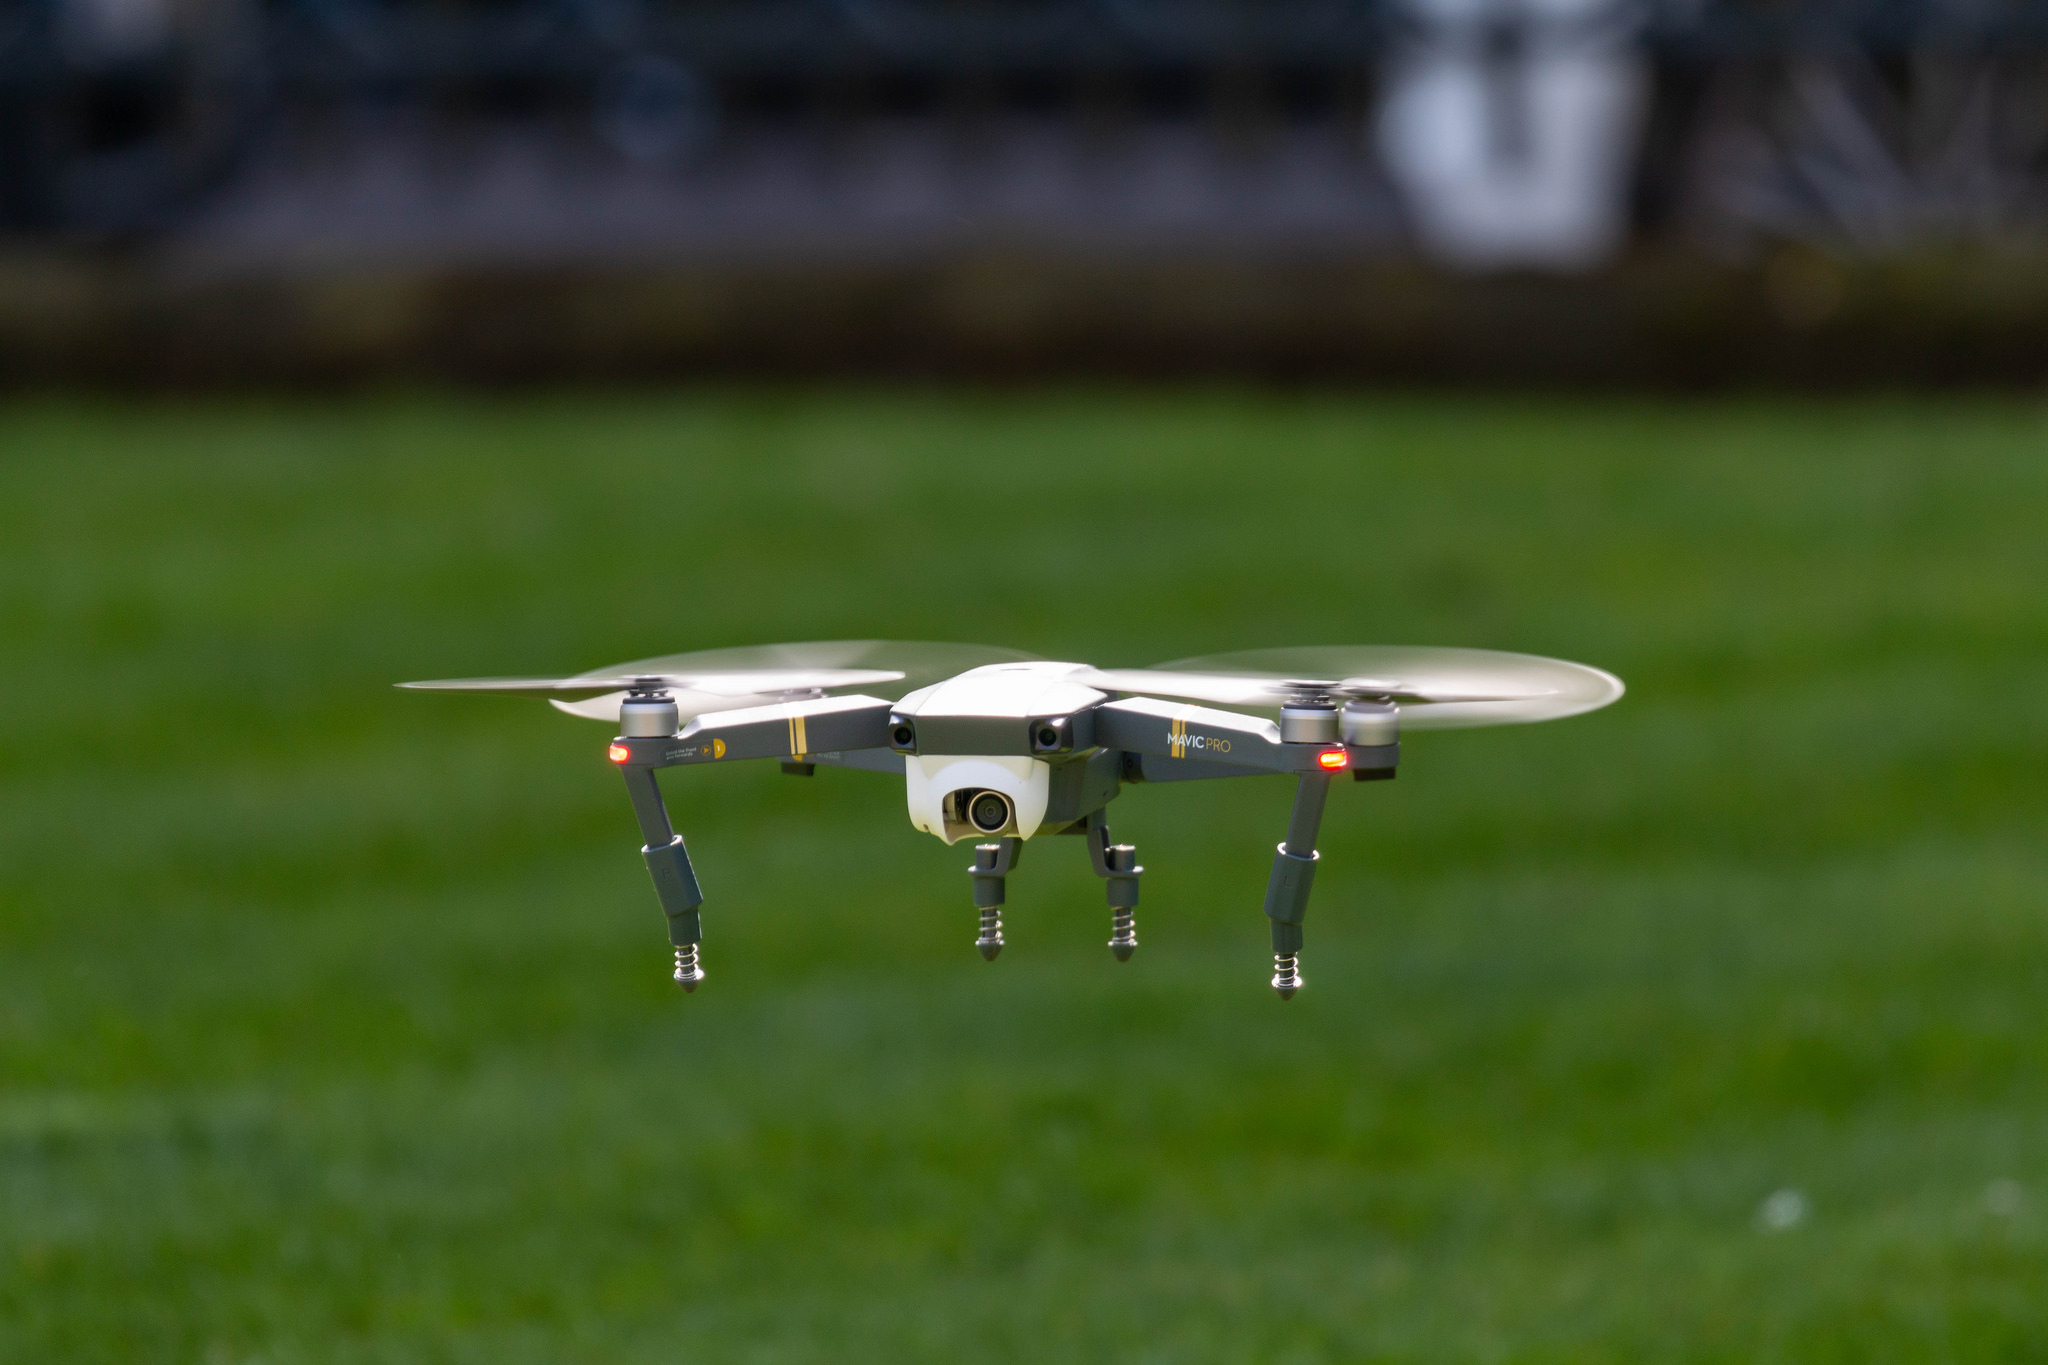drone: (387, 629, 1638, 1009)
